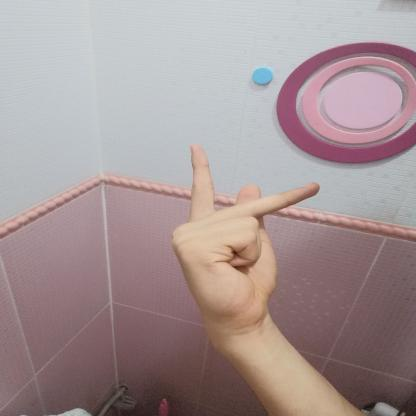DHAA: (157, 137, 334, 339)
